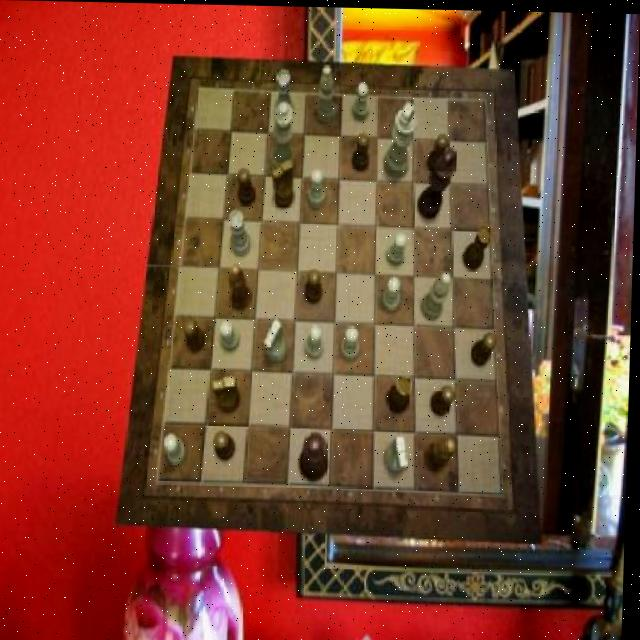bishop: (230, 264, 254, 311), (428, 435, 460, 470)
black-bishop: (420, 146, 458, 219)
black-king: (272, 159, 296, 208), (215, 373, 244, 411)
black-knight: (473, 330, 500, 365), (427, 132, 449, 171), (434, 383, 458, 415), (185, 316, 207, 350), (353, 132, 371, 171), (239, 167, 257, 205), (216, 432, 239, 460), (307, 267, 325, 302)
black-pawn: (303, 432, 331, 481)
black-queen: (465, 222, 493, 268), (389, 373, 415, 412)
black-rook: (424, 271, 454, 319), (317, 64, 338, 122)
white-bishop: (385, 101, 418, 176)
white-king: (266, 319, 290, 363), (388, 433, 413, 471)
white-knight: (166, 434, 190, 467), (388, 230, 409, 264), (309, 169, 327, 208), (353, 80, 371, 119), (343, 325, 363, 360), (307, 322, 325, 357), (384, 275, 402, 309), (221, 321, 242, 350)
white-pawn: (272, 102, 297, 174)
white-queen: (229, 209, 253, 255), (276, 68, 295, 119)
